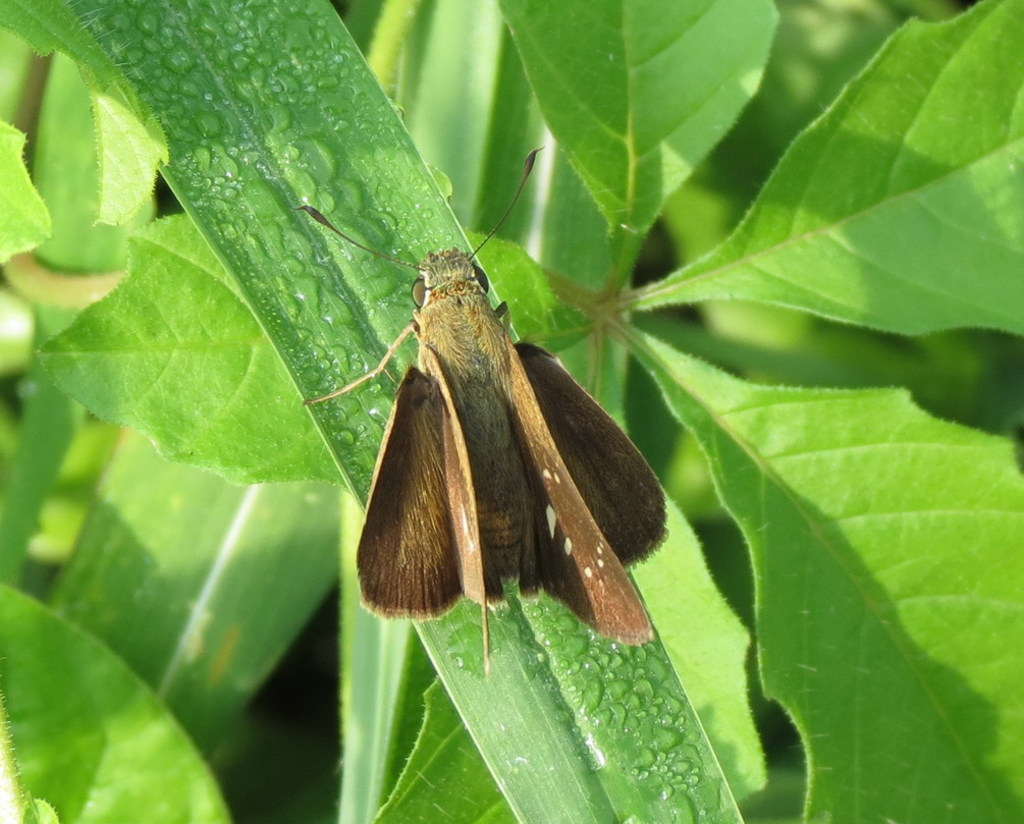Butterfly: (286, 173, 698, 673)
